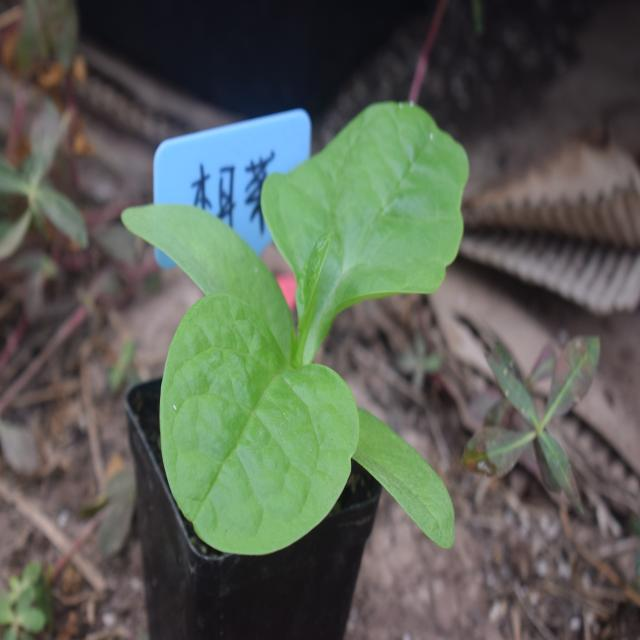Ceylon spinach: (140, 108, 482, 544)
